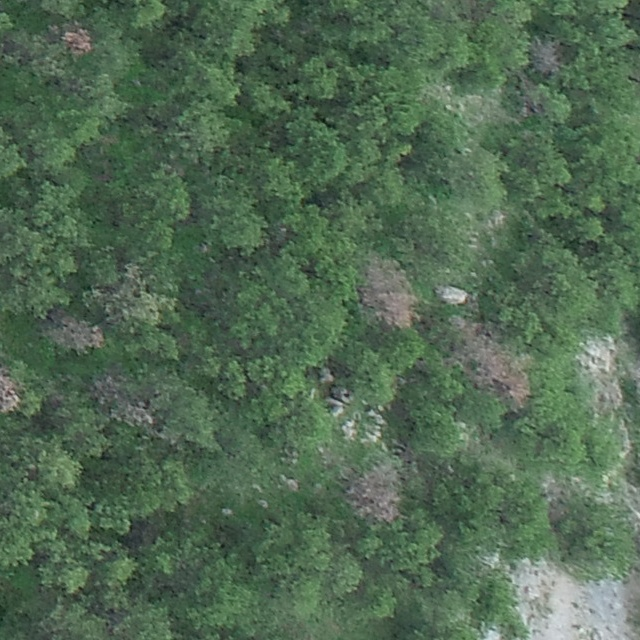unhealthy: (457, 320, 531, 406), (88, 369, 158, 431), (359, 257, 416, 331), (82, 260, 143, 321), (347, 462, 404, 525), (44, 311, 107, 353), (530, 38, 564, 76), (61, 23, 94, 55), (0, 365, 20, 414)
